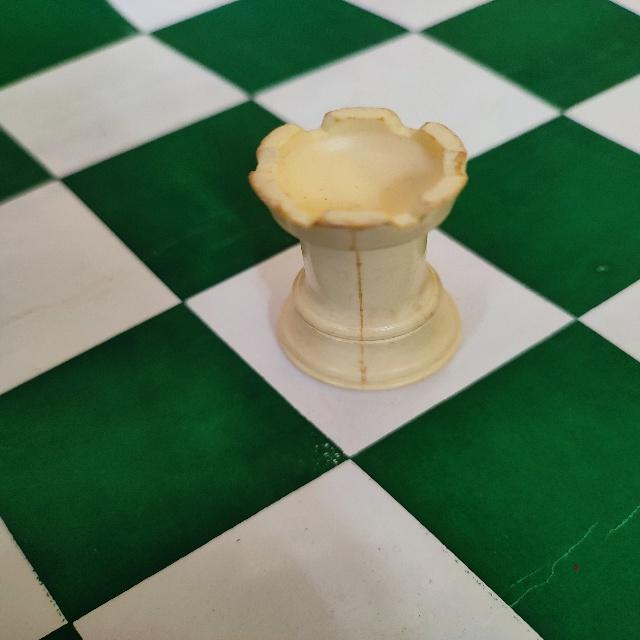Rook: (242, 98, 478, 395)
